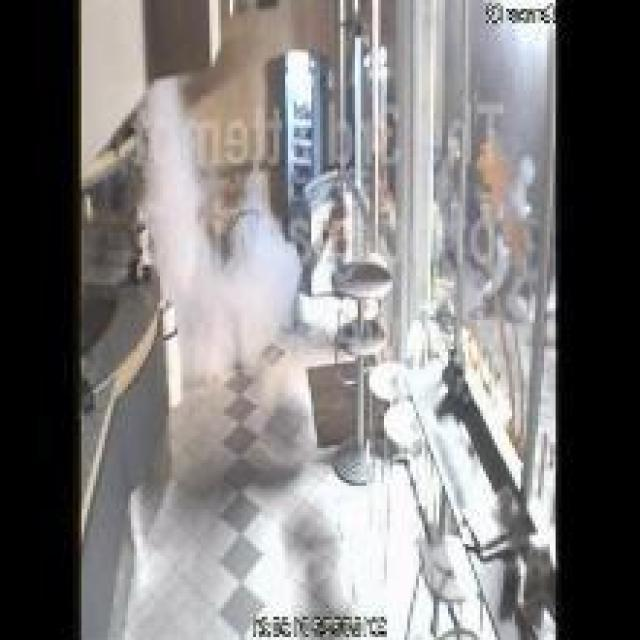fire: (147, 104, 310, 388)
